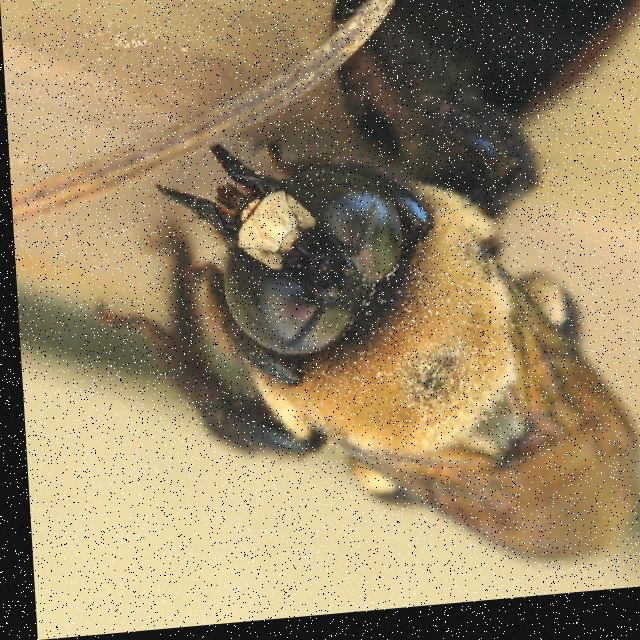Meliponula: (77, 69, 640, 635)
